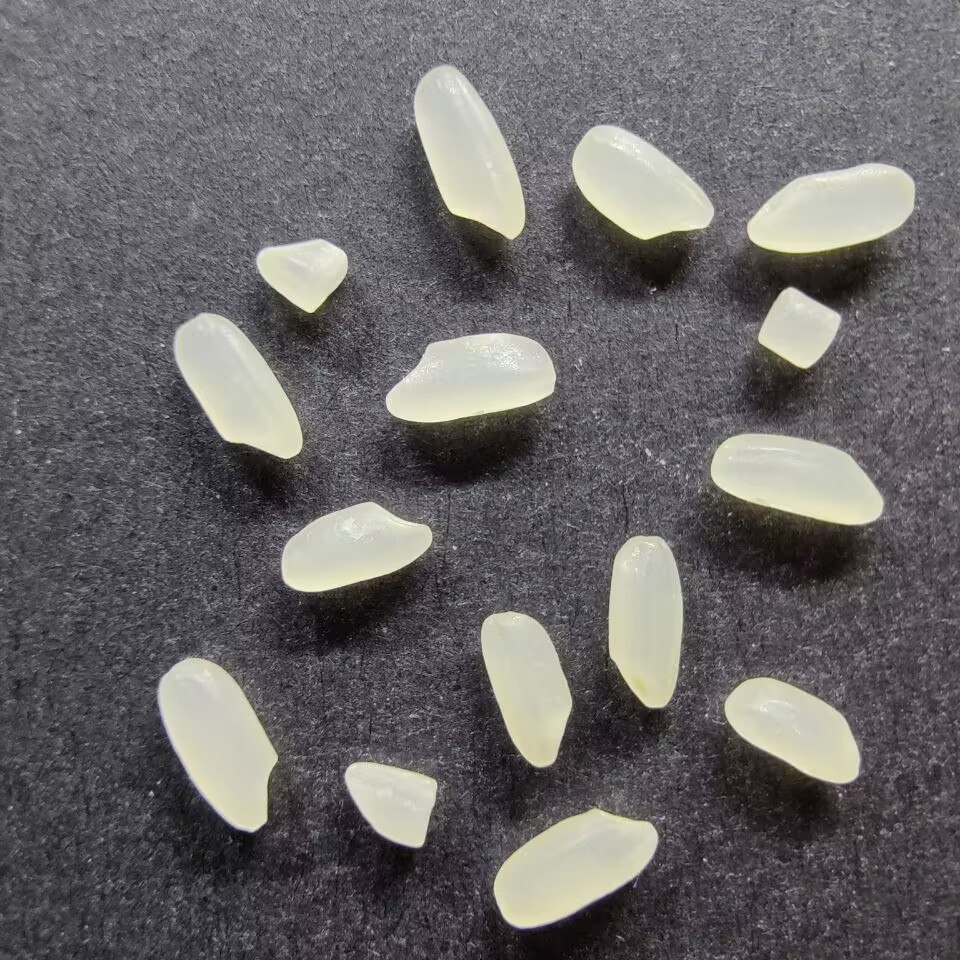broken: (342, 758, 438, 850), (757, 284, 841, 372), (254, 237, 349, 313)
rice: (156, 655, 278, 834), (410, 62, 527, 242), (492, 805, 657, 929), (169, 310, 304, 460), (570, 122, 714, 241), (710, 431, 884, 526), (382, 333, 556, 424), (745, 161, 916, 253), (478, 610, 575, 769), (722, 676, 862, 785), (278, 499, 433, 593), (605, 535, 684, 709)
